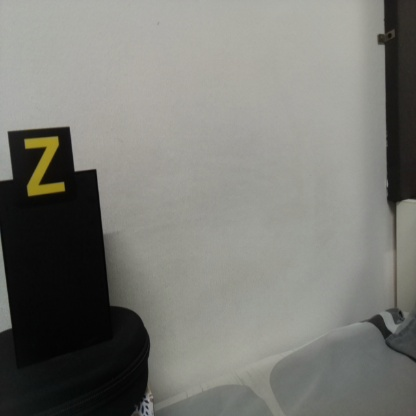id_15: (8, 130, 75, 206)
